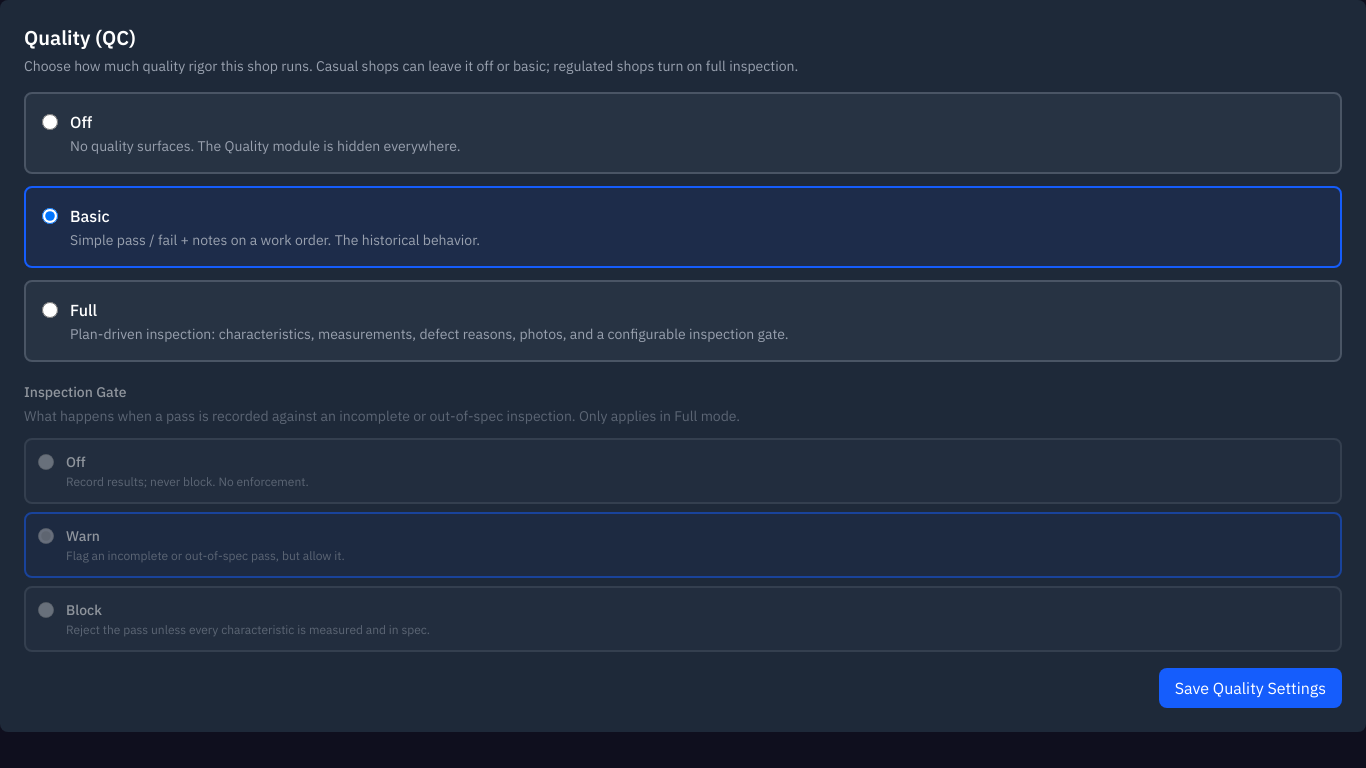
QualitySettingsSection › disables the gate selector unless mode is full
Expected: the text "Full" is shown, [70,300,97,320]
Expected: the radio button labelled "Off Record results; never block. No enforcement." is disabled, [38,454,54,470]
Click the 3rd radio button: (50, 310) [42,302,58,318]
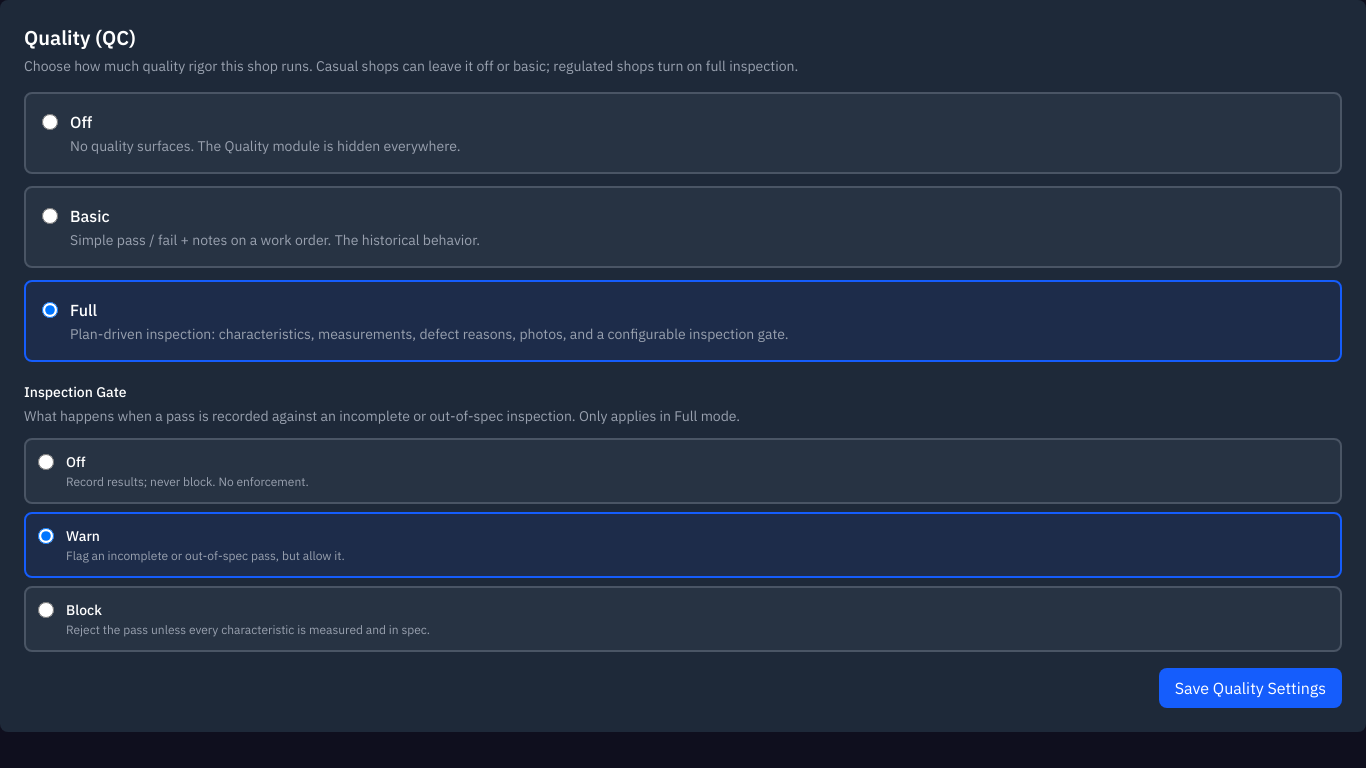
Result: the radio button labelled "Off Record results; never block. No enforcement." is enabled at [38,454,54,470]
Result: the radio button labelled "Warn Flag an incomplete or out-of-spec pass, but allow it." is enabled at [38,528,54,544]
Result: the 6th radio button is enabled at [38,602,54,618]
